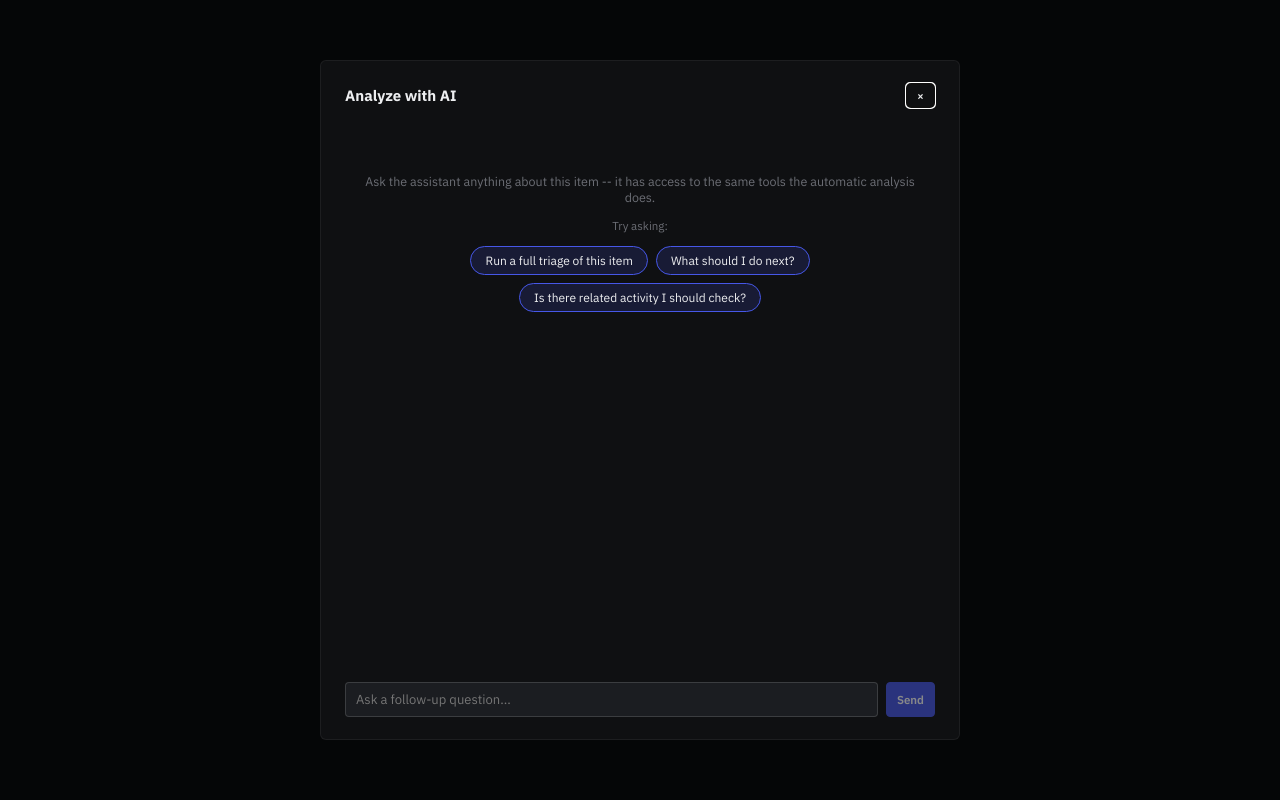
Scenario: AnalysisChat › sending a message posts to analyze/messages and refetches the transcript
The image size is (1280, 800).
Expected: the text "Ask the assistant anything" is shown, [365,172,915,204]
Type "what about the source IP?" into the field with placeholder "Ask a follow-up question...".
click(611, 700); type("what about the source IP?")  # box [345,682,878,717]
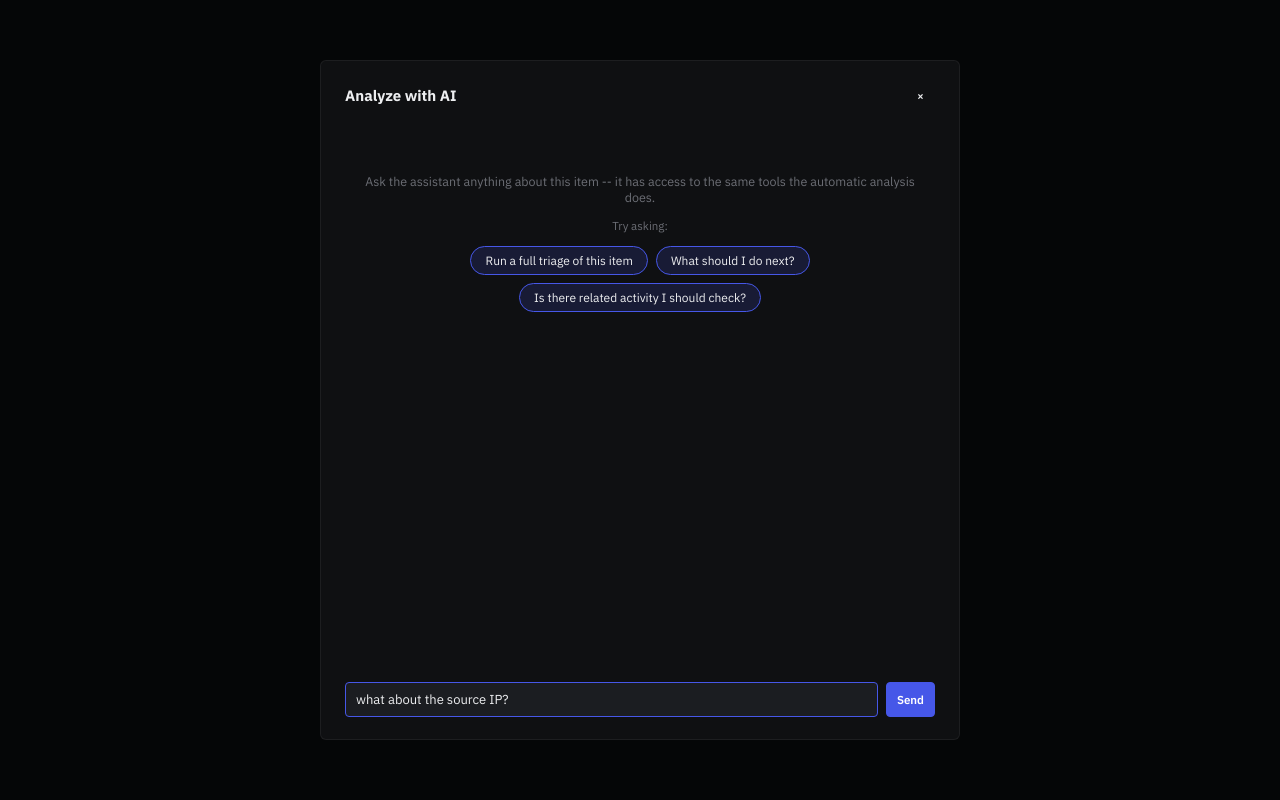
Click the button "Send".
click(910, 700)  # box [886,682,935,717]
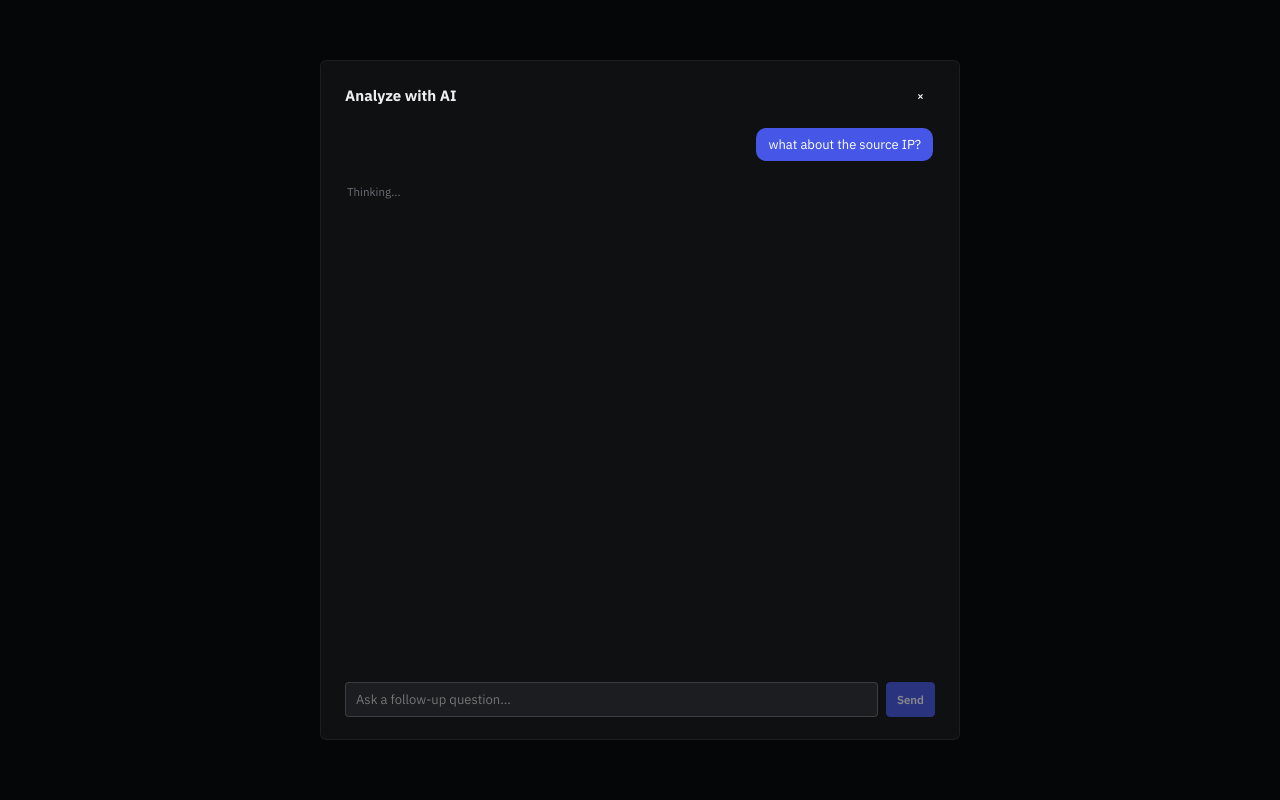
Expected: the text "what about the source IP?" is shown, [756,128,933,161]
